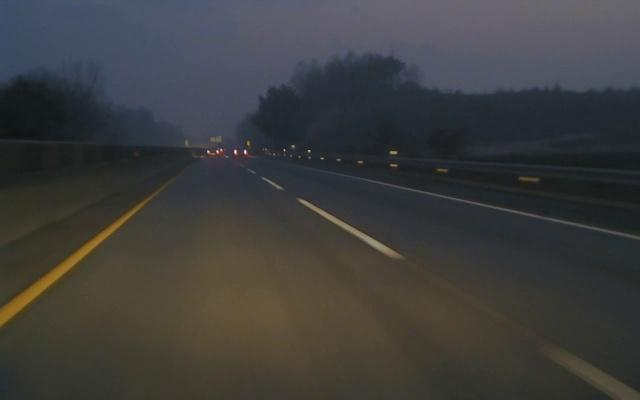lane: (272, 182, 640, 400), (2, 186, 163, 326), (382, 183, 637, 241)
